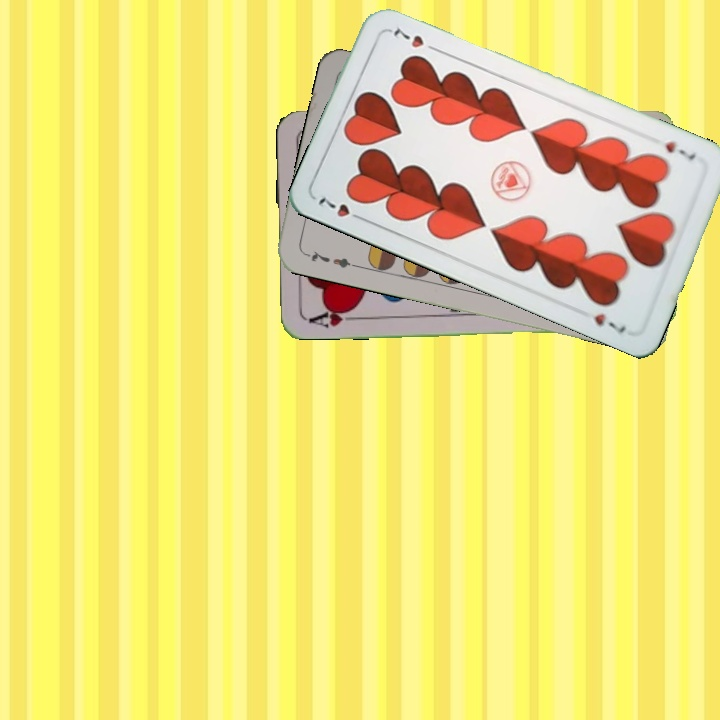E7: (300, 246, 359, 271)
H7: (314, 192, 368, 225), (660, 137, 699, 164)
HA: (302, 304, 361, 331)
